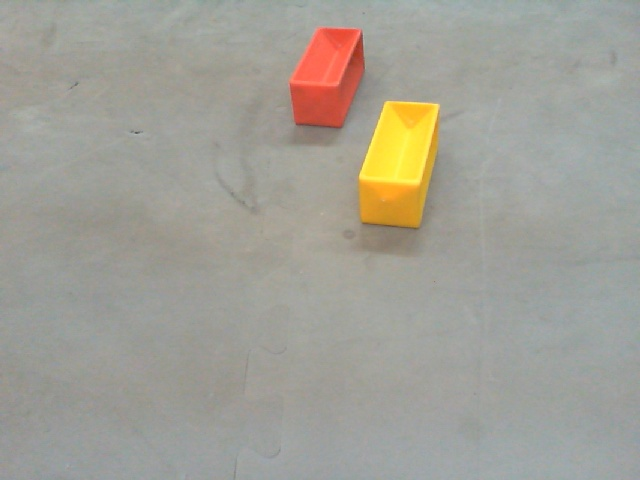RedSample: (288, 26, 368, 129)
YellowSample: (355, 98, 443, 233)
